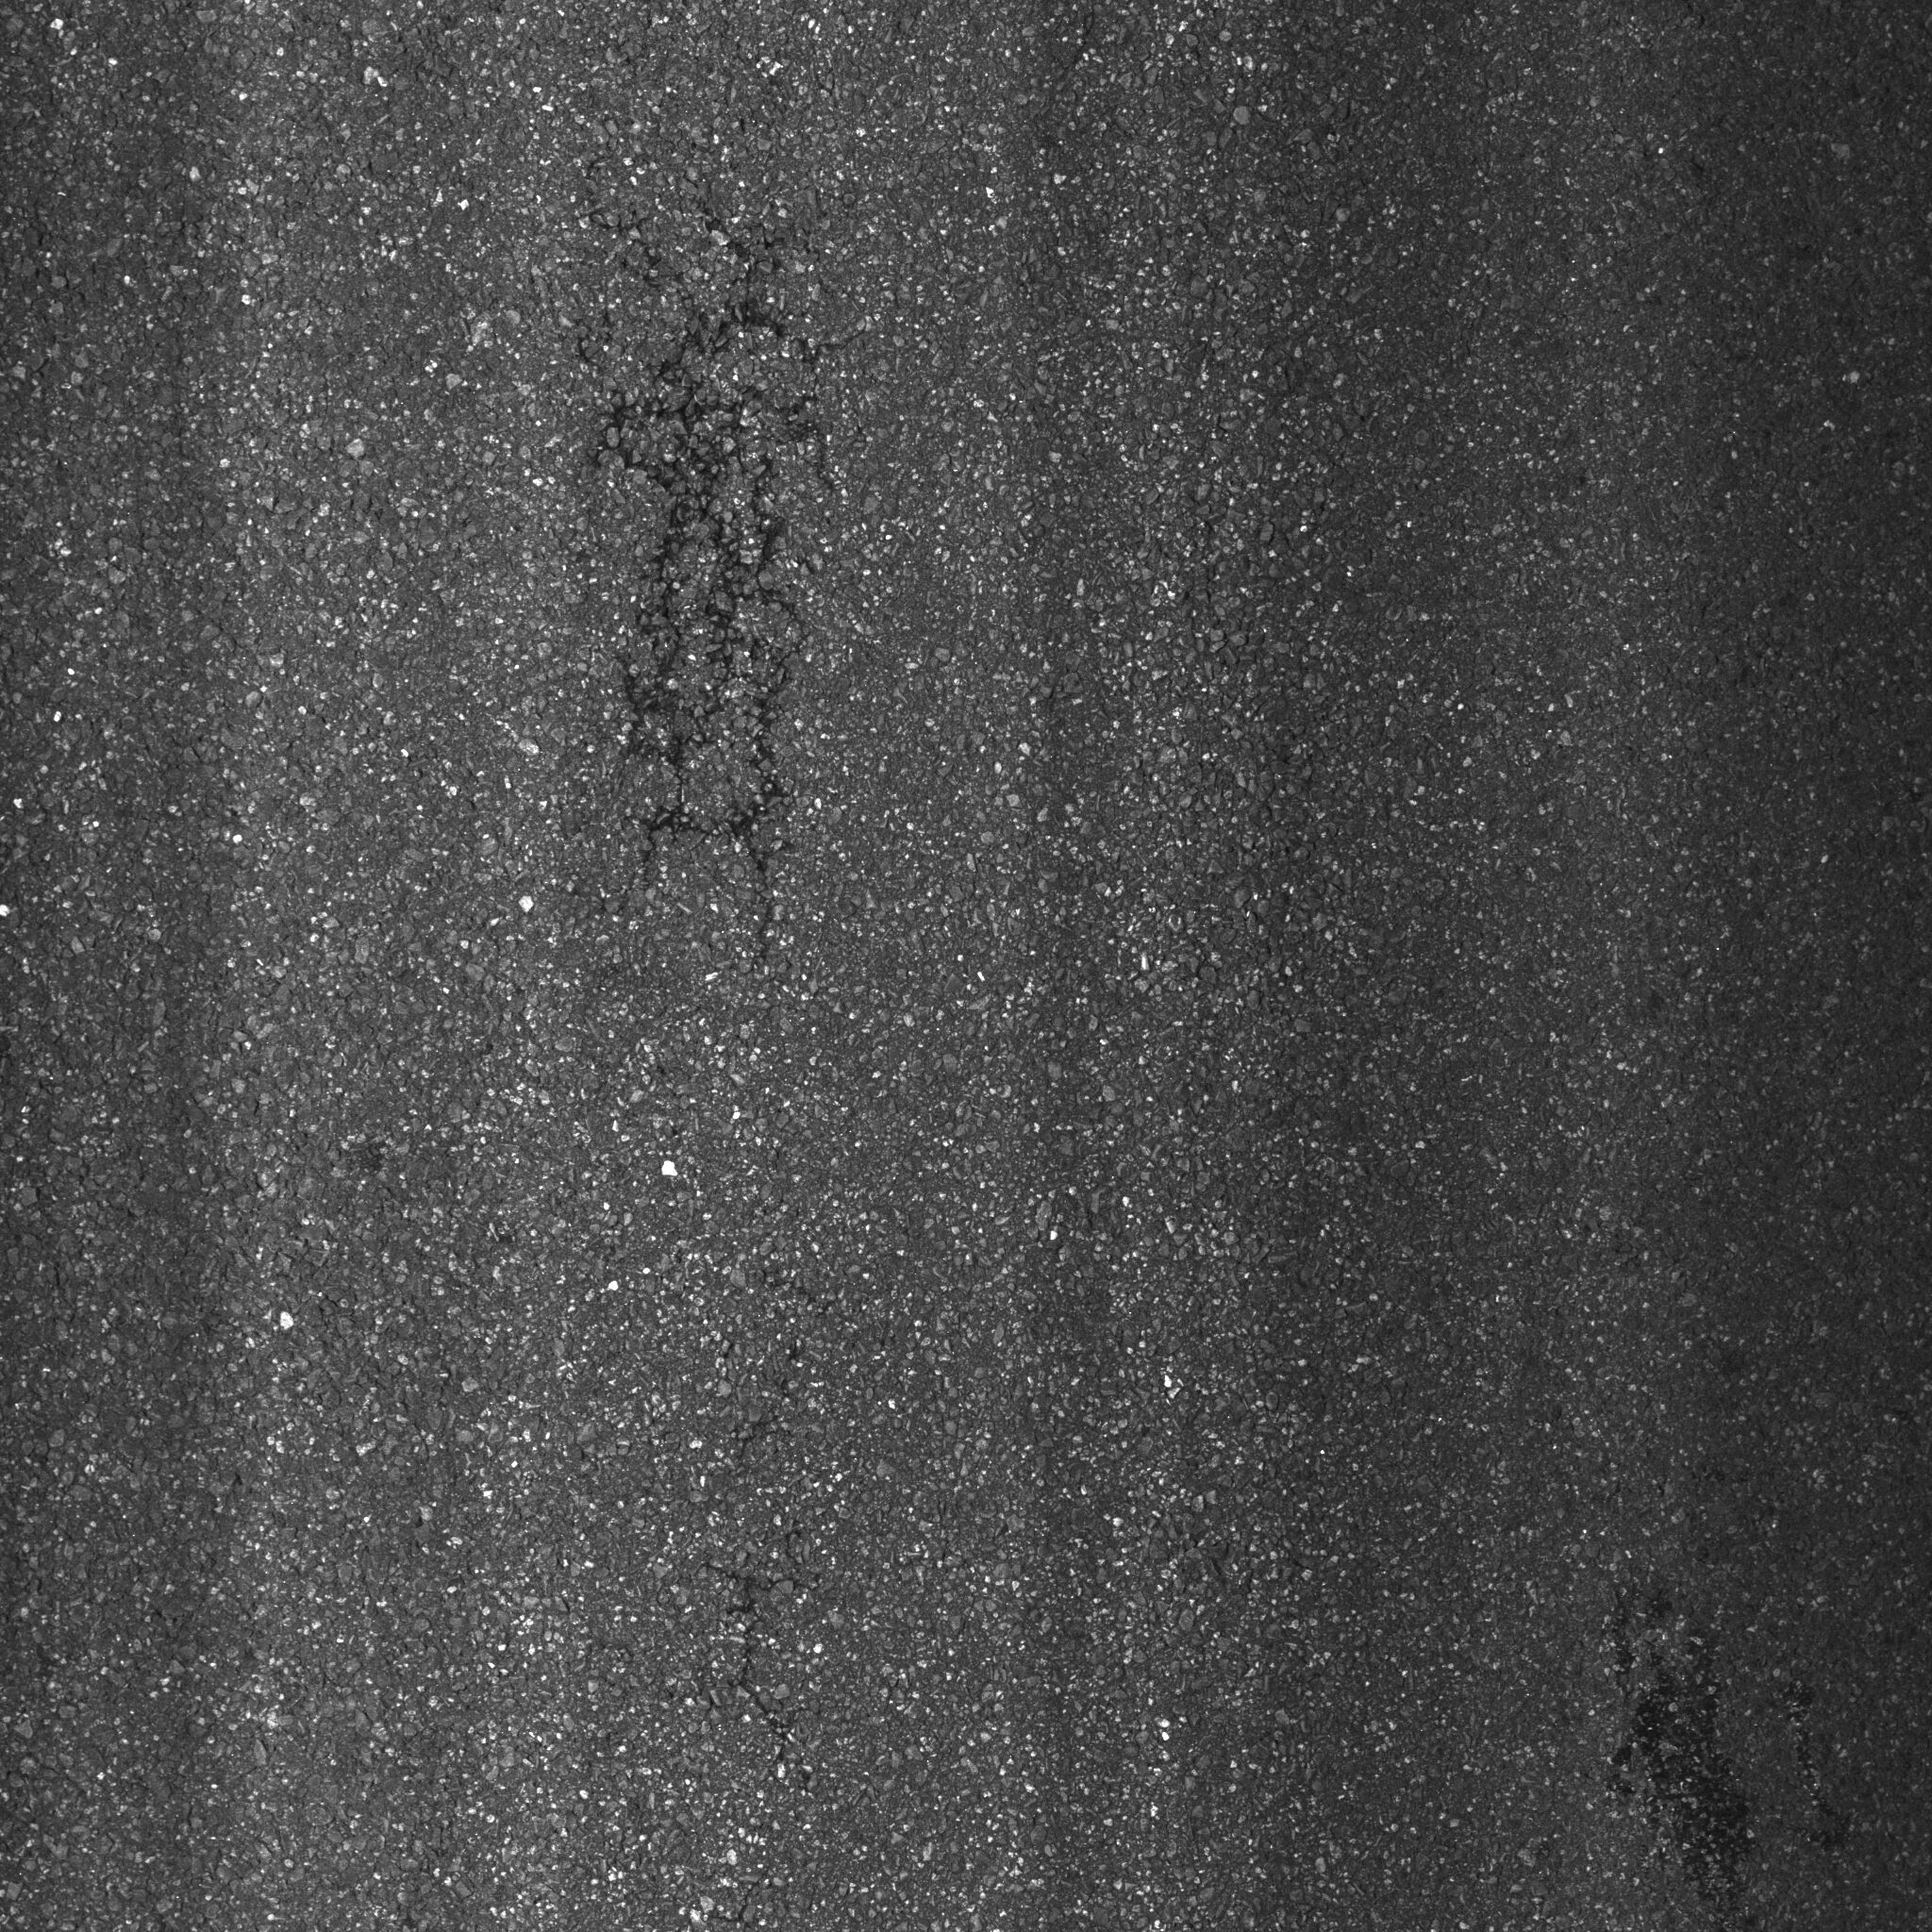alligator: (522, 234, 916, 1046)
